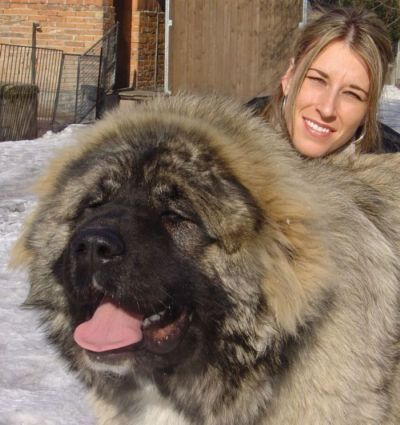cau_ovcharka: (7, 93, 400, 425)
human_face: (280, 47, 370, 157)
person: (240, 5, 400, 158)
